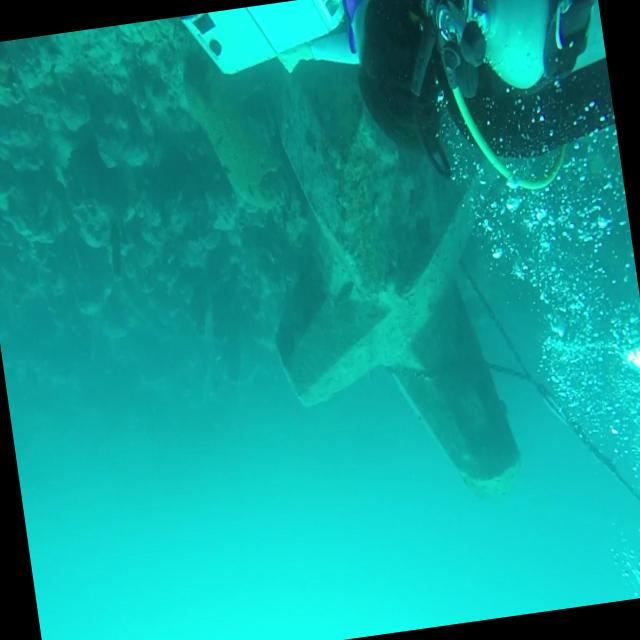human: (196, 0, 625, 247)
